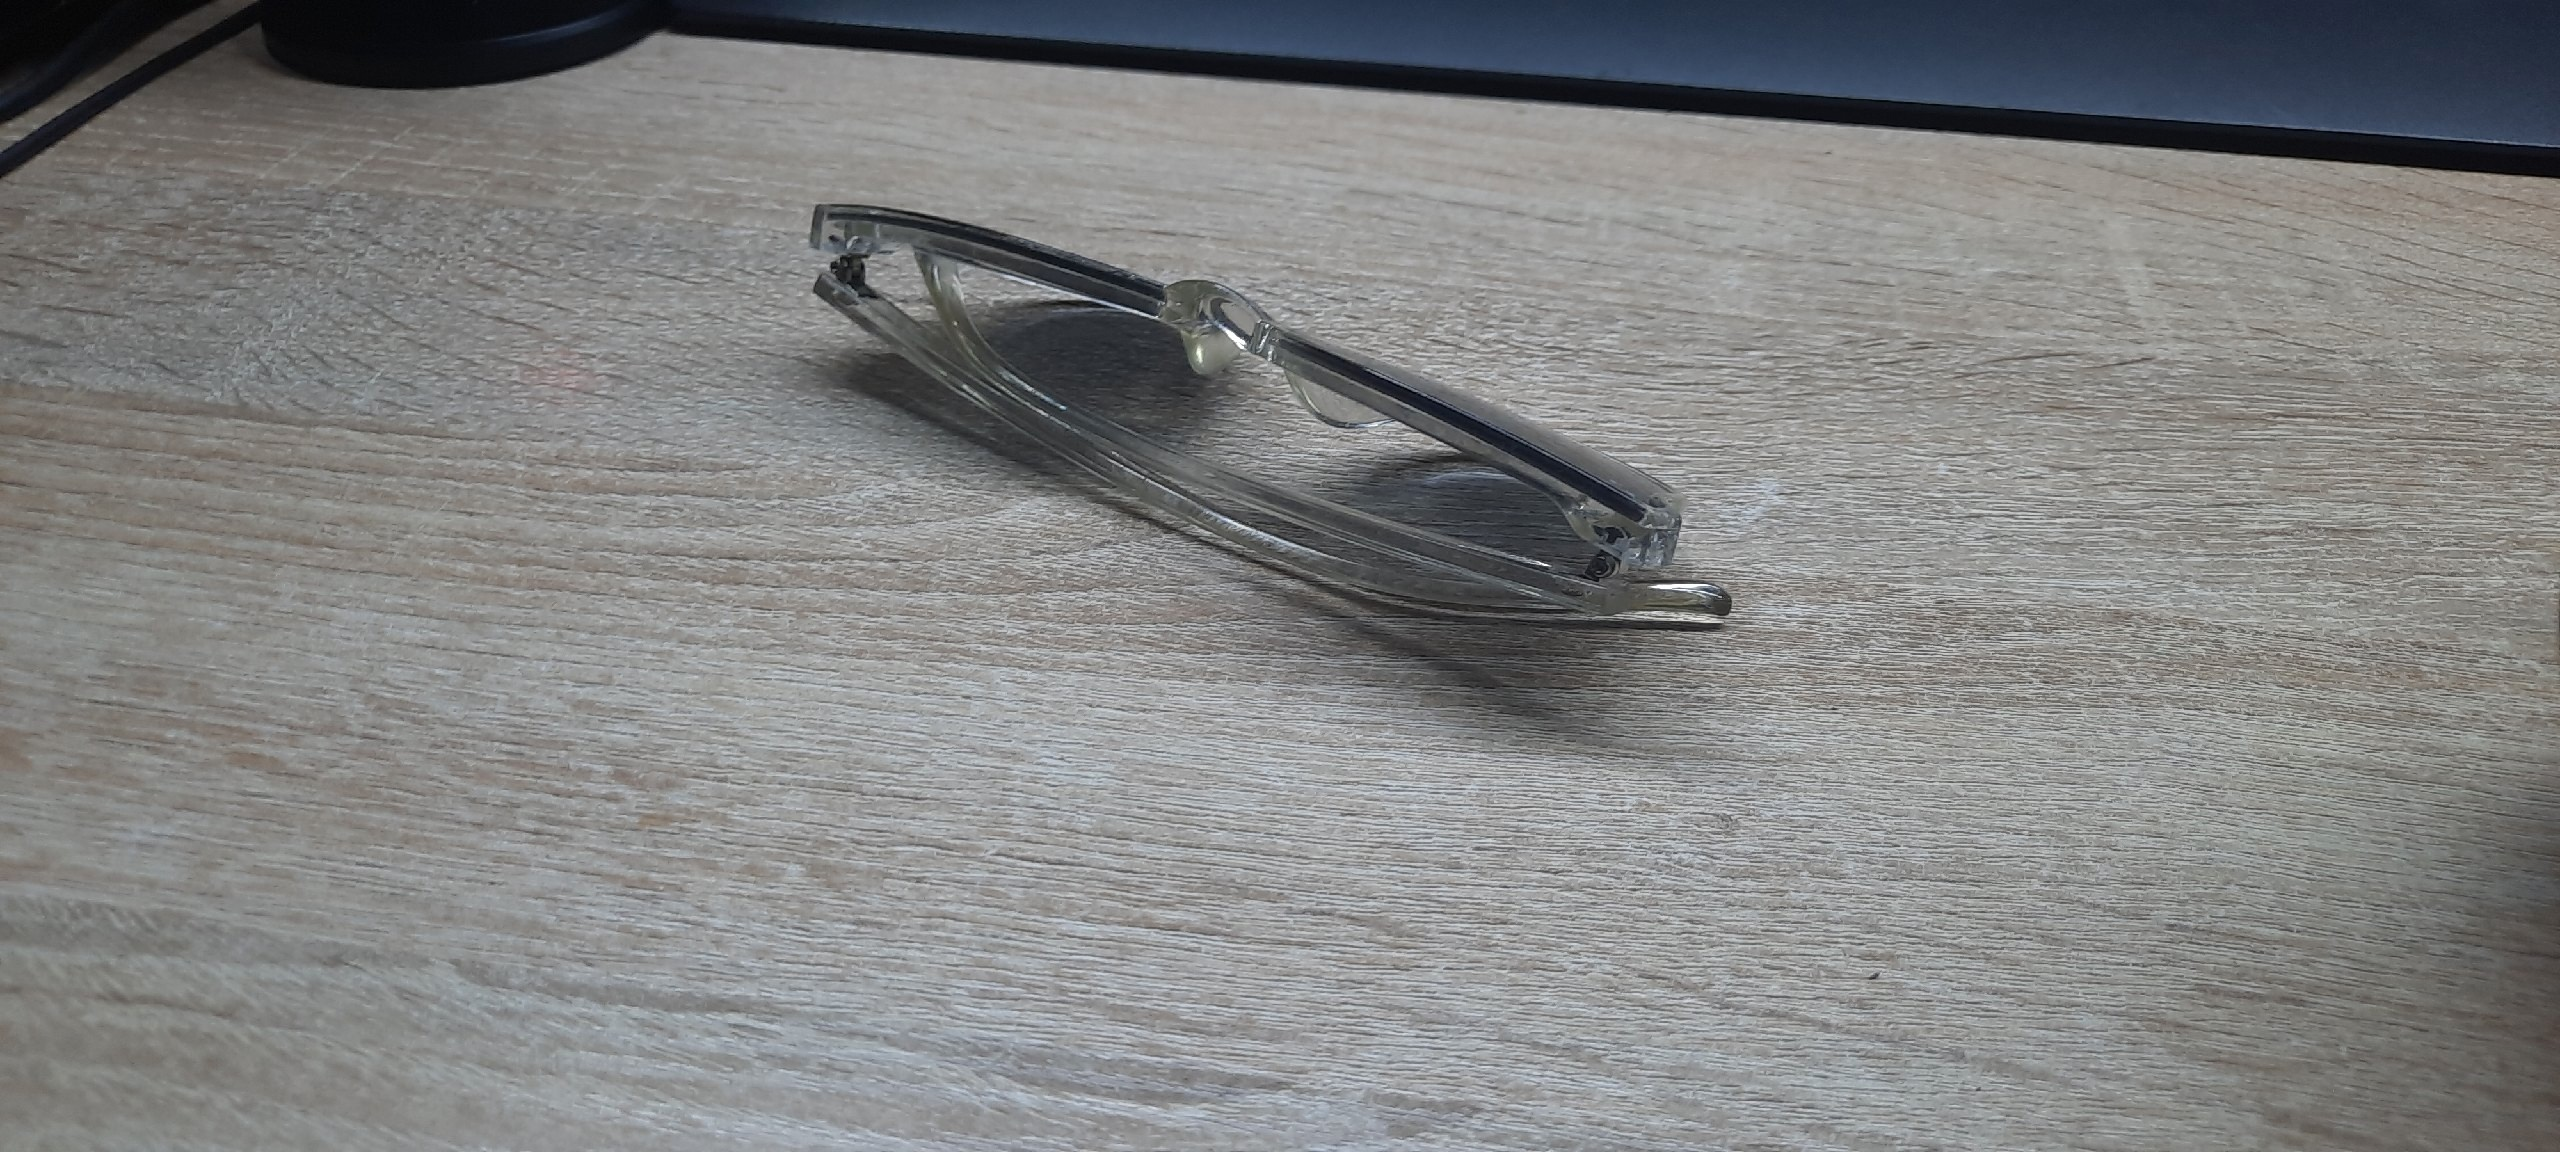glasses: (811, 206, 1727, 618)
